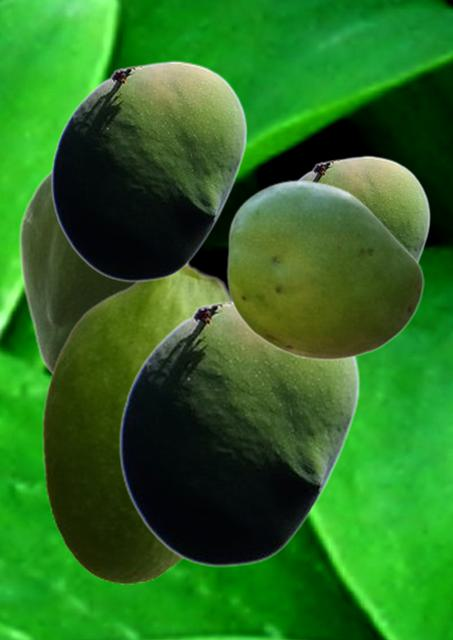green_mango: (118, 297, 360, 566), (41, 262, 229, 583), (50, 60, 247, 281), (226, 179, 423, 360), (17, 169, 133, 373), (298, 155, 430, 261)
